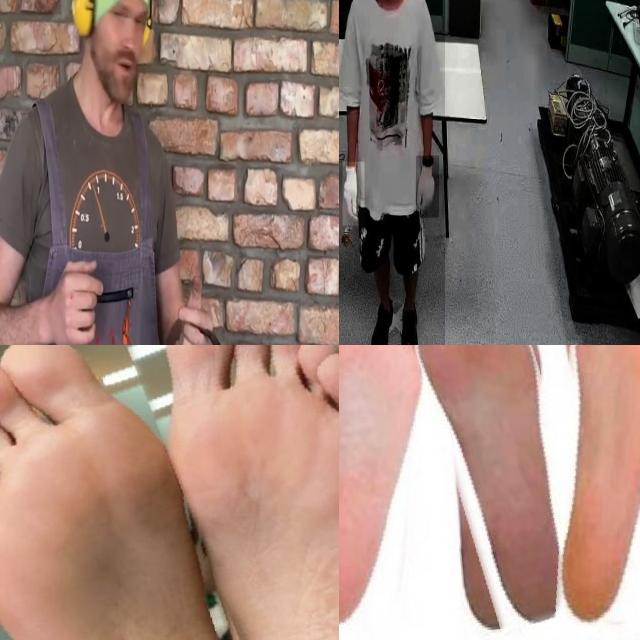Barefoots: (0, 345, 284, 640), (137, 345, 339, 640), (391, 345, 588, 636), (339, 345, 461, 640), (532, 345, 640, 634)
Ear-protection: (73, 0, 154, 114)
hand_glove: (416, 156, 440, 218), (343, 162, 365, 226)
person: (339, 0, 445, 345)
shoes: (367, 291, 393, 345), (394, 295, 422, 345)
